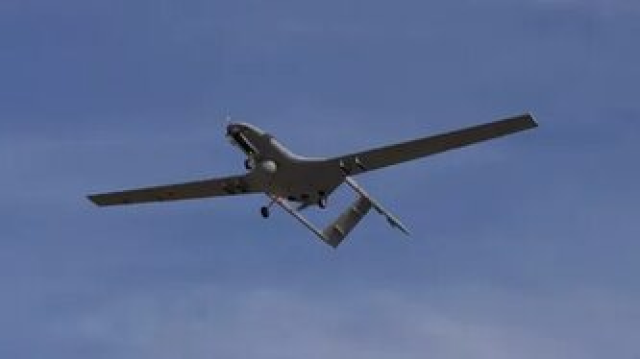military drone: (85, 112, 538, 249)
